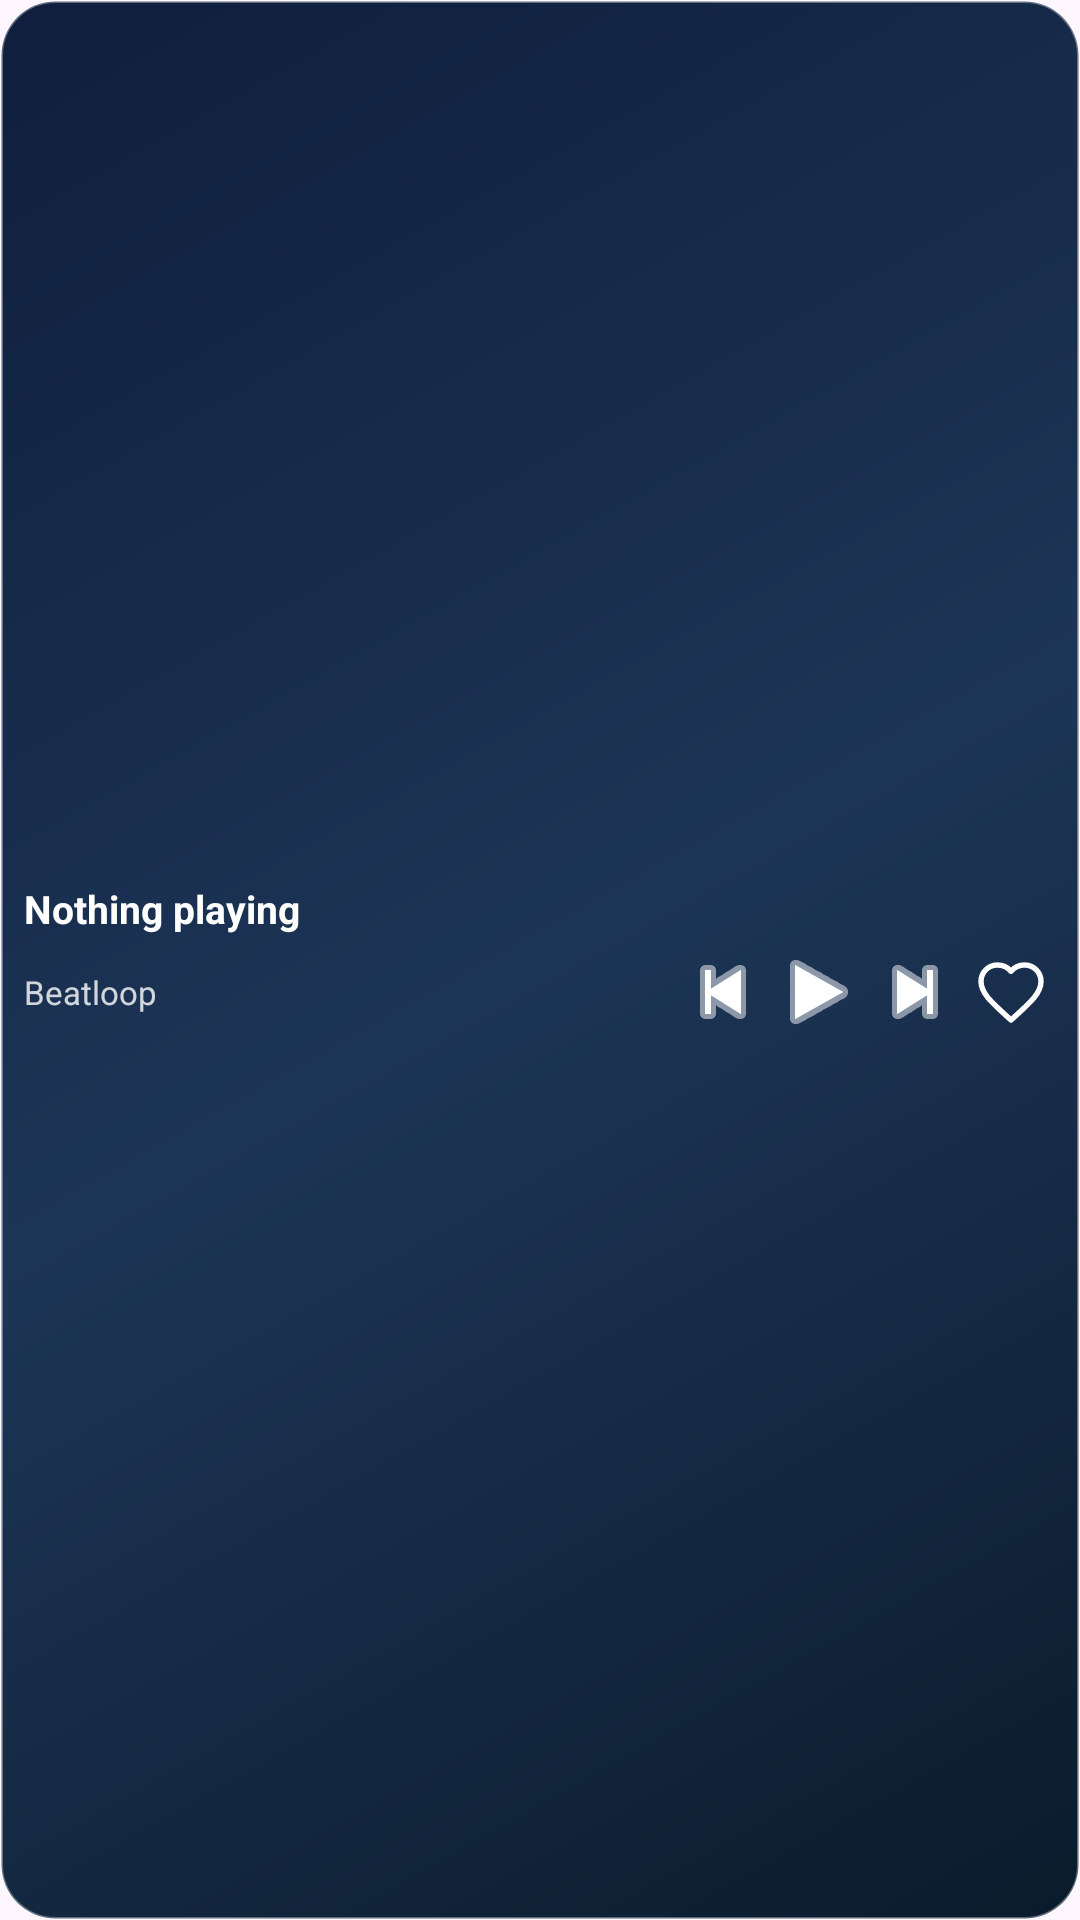

Screen size 1080px x 1920px. Icon name, then its center in pixels as point (x, y):
Like: point (1011, 992)
Next: point (915, 992)
Play pause: point (819, 992)
Previous: point (723, 992)
